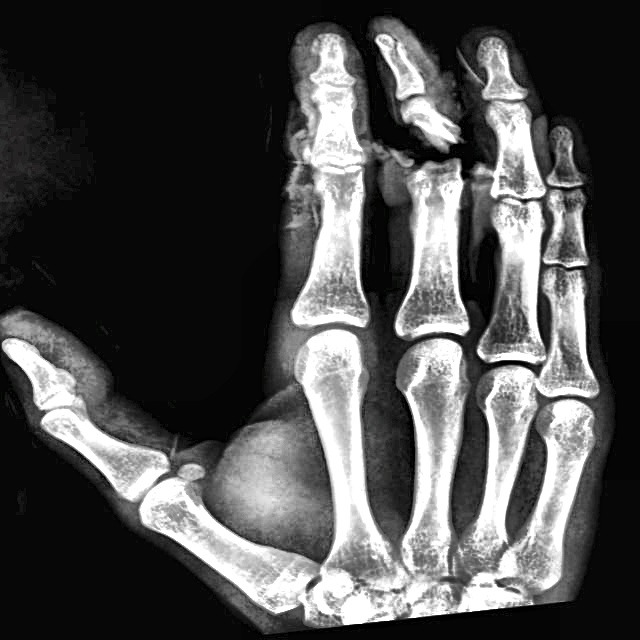Transverse: (395, 91, 469, 187)
